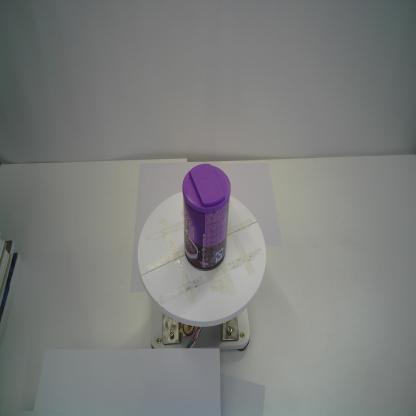Canned Food: (182, 162, 232, 272)
